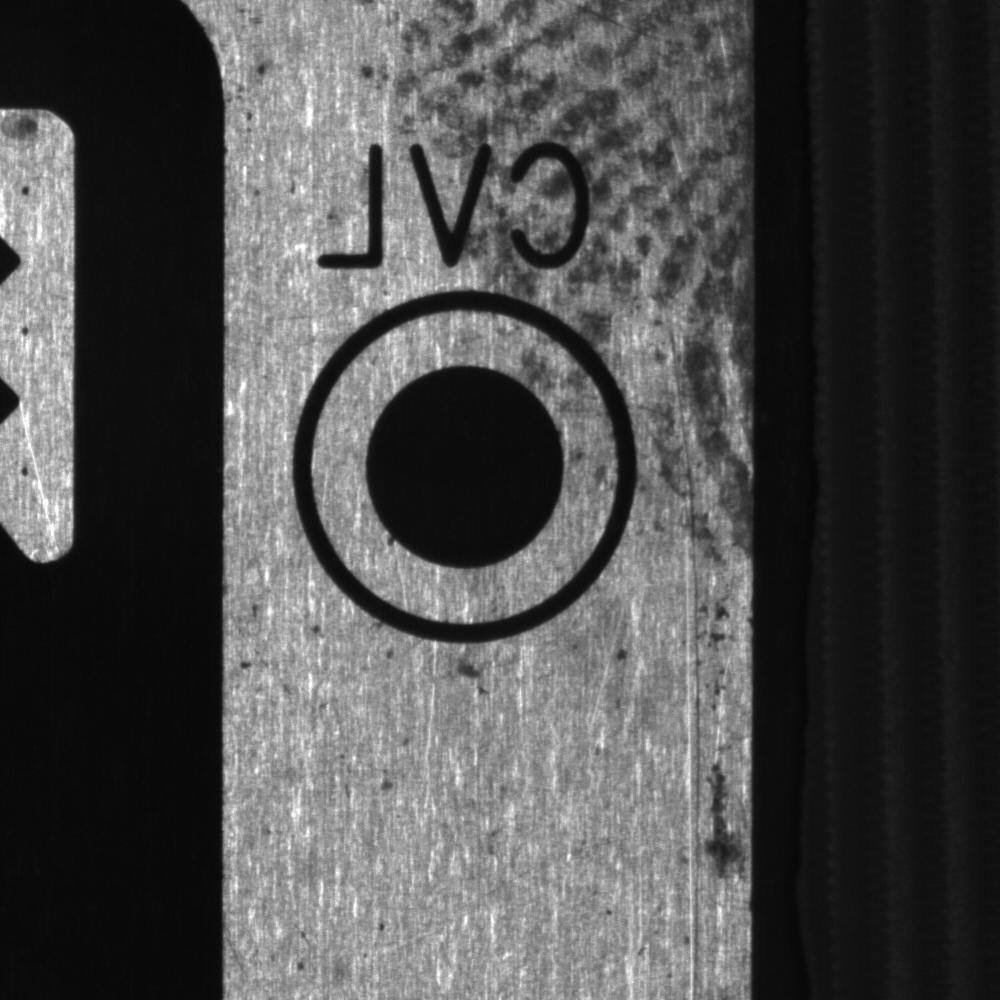Discolor: (422, 134, 755, 309), (360, 1, 752, 137), (639, 309, 755, 577), (691, 596, 752, 900), (1, 106, 71, 181)
Etching: (223, 8, 313, 205), (224, 596, 343, 701), (441, 645, 512, 704)
